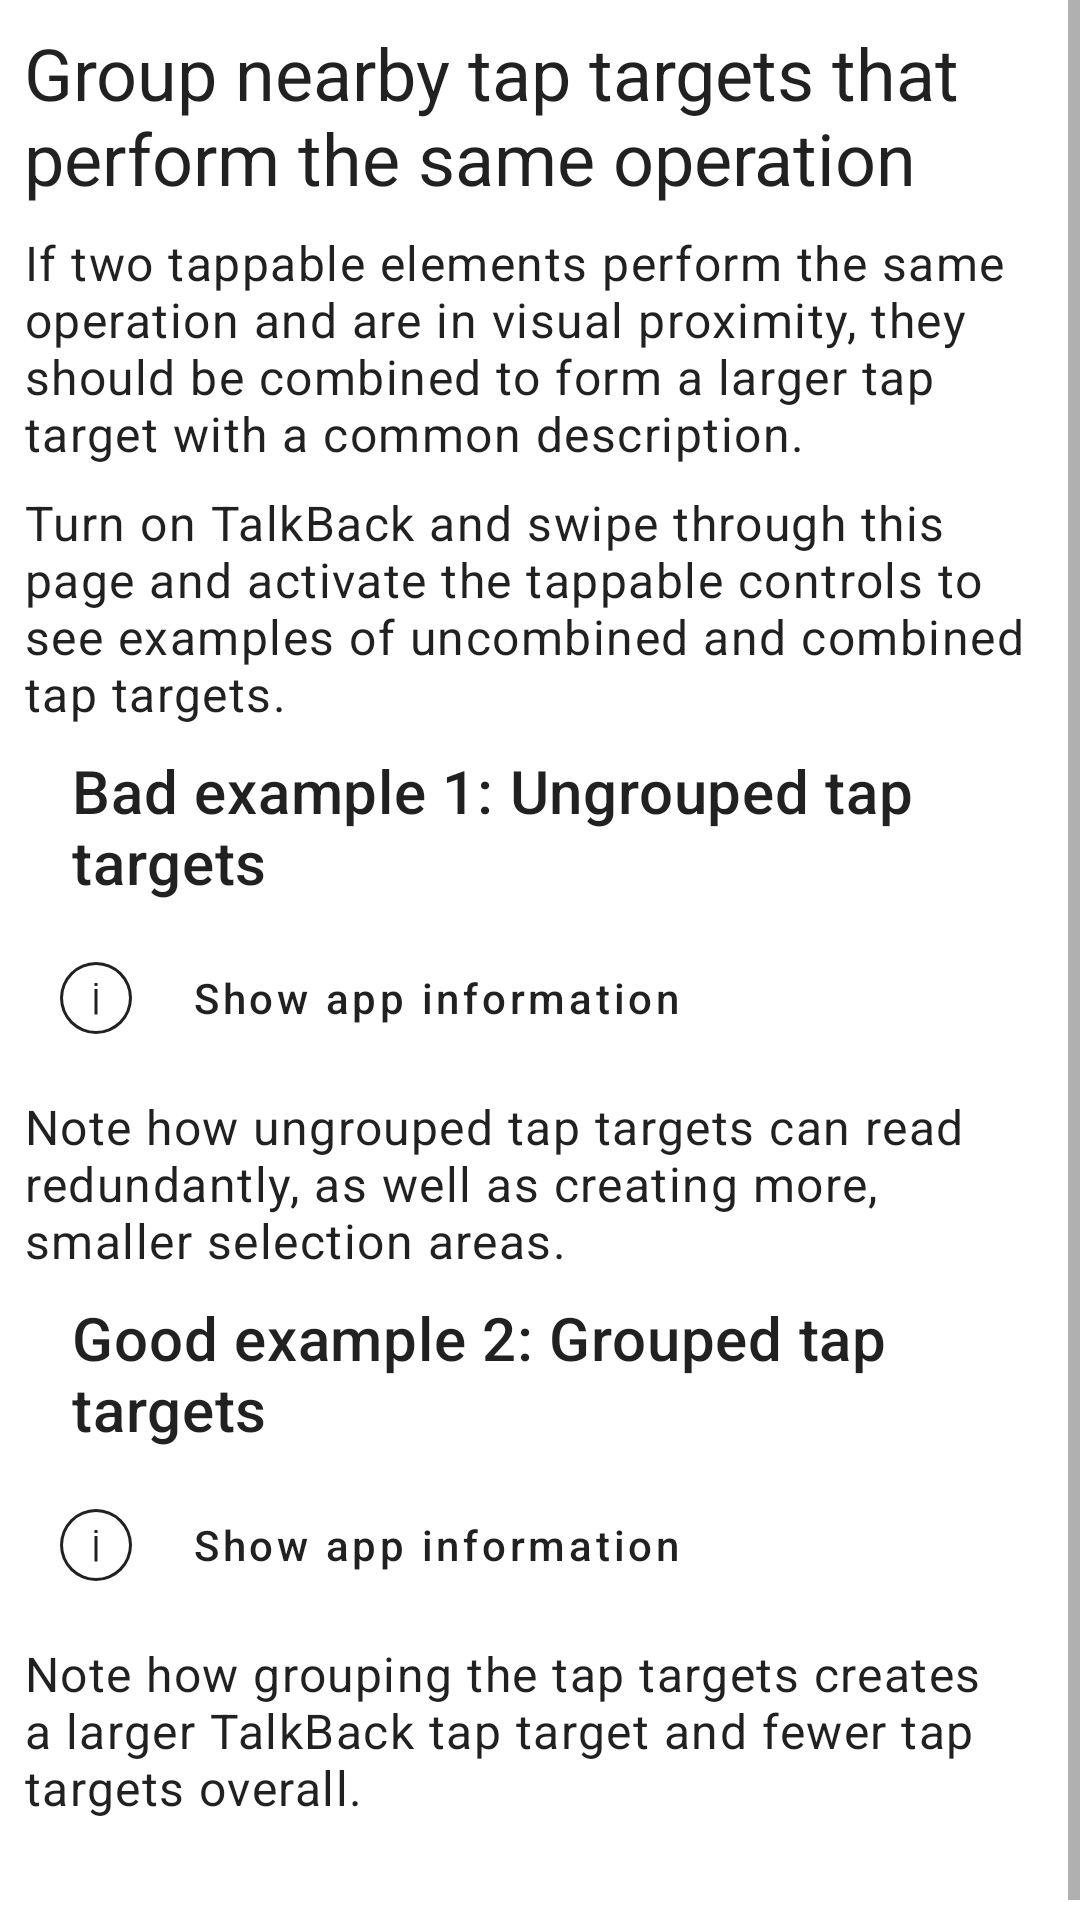

Icon bounding boxes for this 1080px x 1920px phone screenshot, format (x1, y1, x2, y2):
info circle: (60, 1509, 132, 1581)
